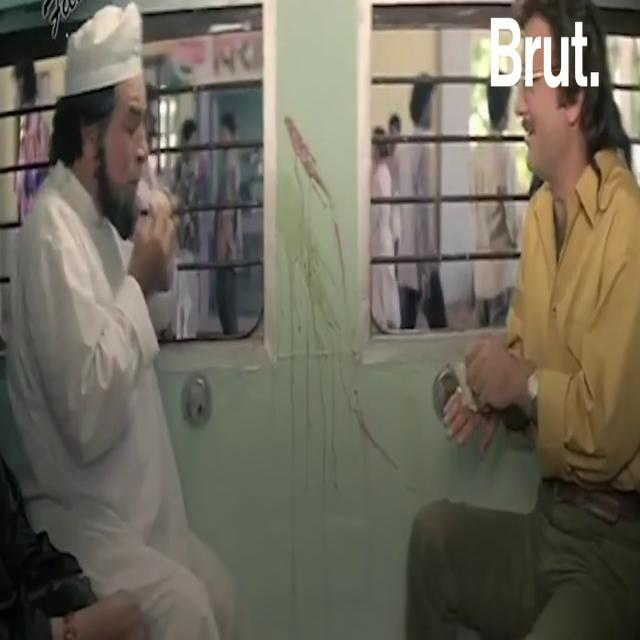spit: (243, 88, 417, 476)
